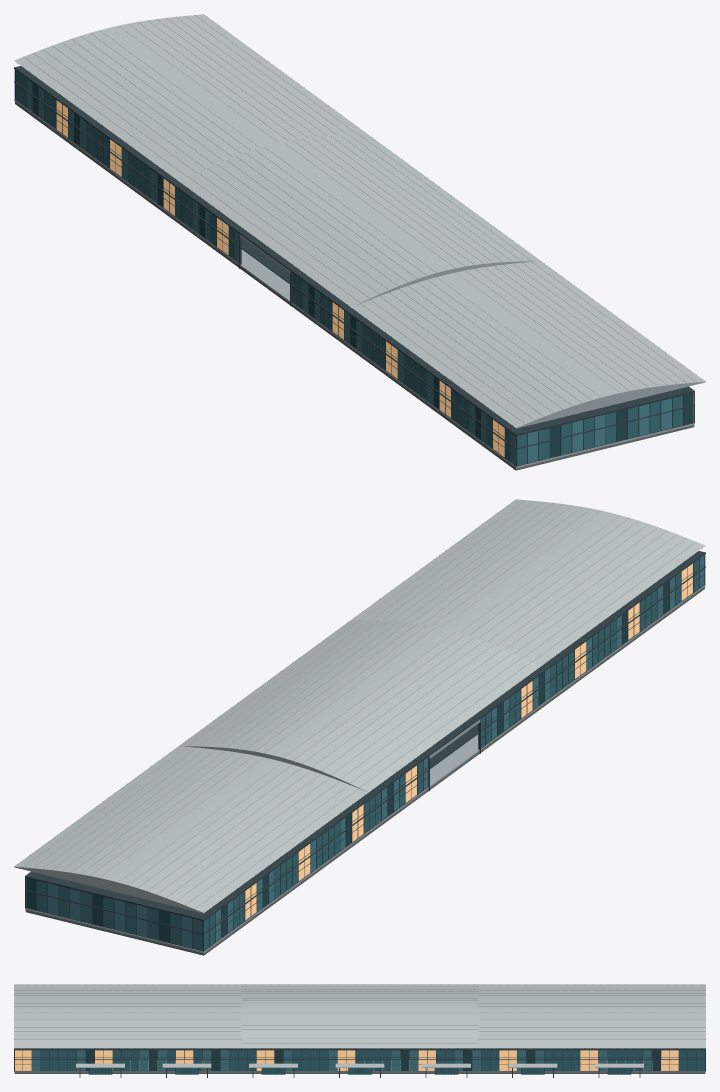
File: TNG_terminal_main.glb
3 renders of one model, top to bottom at view 1: azimuth 30°, elevation 25°; view 2: azimuth 150°, elevation 25°; view 3: azimuth 270°, elevation 25°, orthographic. The views are drawn at different scales.
Parts seen in each view (by area): view 1: TNG_terminal_main; view 2: TNG_terminal_main; view 3: TNG_terminal_main.
Boxes of the visible parts, x1,y1,x2,y2 form: TNG_terminal_main: (14,14,705,470); TNG_terminal_main: (14,499,705,955); TNG_terminal_main: (14,984,705,1077).
Bounding box in the file's own units: 70 × 20 × 320.
Materials: 10 (10 with a texture image).
